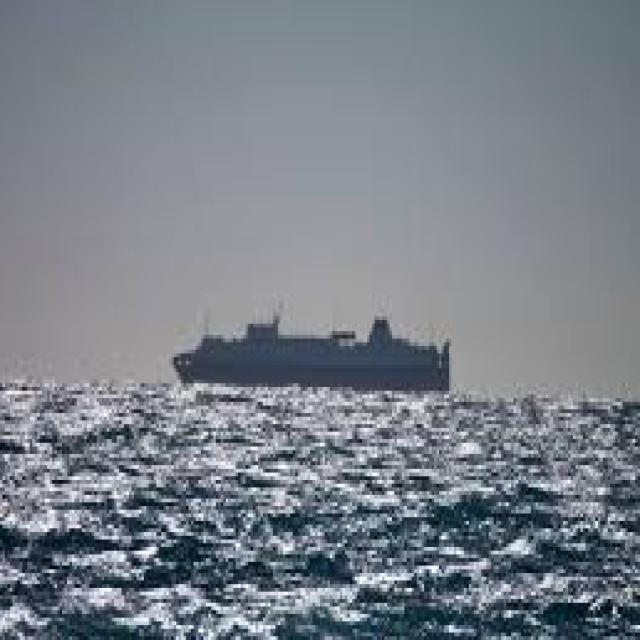cargoship: (174, 297, 458, 388)
